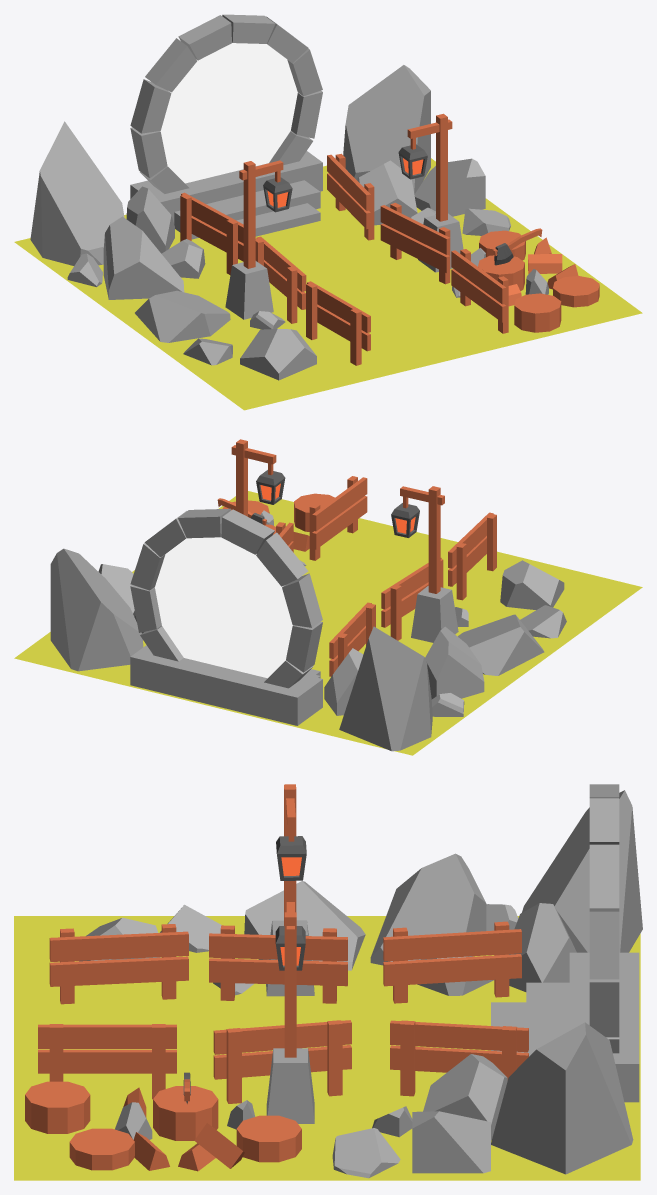
The model's file is portal.glb.
3 views of the same model, one above another, from view 1: azimuth 30°, elevation 25°; view 2: azimuth 150°, elevation 25°; view 3: azimuth 270°, elevation 25° (orthographic). The views are drawn at different scales.
Visible parts, largest first — view 1: Plane, Circle, Cube.021, Cube.020, Cube.022, Cube.027, Cube.016, Cube.046, Cube.004, Cube.026, Cube.002, Cube (+32 smaller); view 2: Plane, Circle, Cube.020, Cube.021, Cube.016, Cube.027, Cube.022, Cube, Cube.026, Cube.004, Cube.003, Cube.005 (+20 smaller); view 3: Plane, Cube.020, Cube.004, Cube.002, Cube.021, Cube, Cube.003, Cube.046, Cube.022, Cube.001, Cube.016, Cube.024 (+29 smaller).
Boxes of the visible parts, x1,y1,x2,y2 form: Plane: [14, 158, 642, 410]; Circle: [160, 43, 297, 183]; Cube.021: [30, 121, 124, 265]; Cube.020: [343, 65, 430, 194]; Cube.022: [103, 216, 184, 299]; Cube.027: [135, 290, 230, 342]; Cube.016: [130, 151, 322, 223]; Cube.046: [380, 202, 450, 284]; Cube.004: [306, 281, 370, 365]; Cube.026: [240, 329, 316, 380]; Cube.002: [180, 192, 243, 274]; Cube: [451, 249, 508, 333]; Plane: [14, 491, 642, 755]; Circle: [155, 537, 292, 678]; Cube.020: [50, 548, 143, 671]; Cube.021: [339, 626, 432, 751]; Cube.016: [130, 645, 322, 725]; Cube.027: [458, 614, 544, 675]; Cube.022: [425, 626, 484, 699]; Cube: [309, 476, 367, 560]; Cube.026: [500, 560, 564, 609]; Cube.004: [448, 512, 496, 600]; Cube.003: [381, 557, 443, 640]; Cube.005: [411, 586, 458, 642]; Plane: [14, 916, 640, 1180]; Cube.020: [491, 1022, 633, 1174]; Cube.004: [49, 924, 188, 1004]; Cube.002: [383, 921, 521, 1003]; Cube.021: [522, 790, 642, 952]; Cube: [38, 1024, 176, 1099]; Cube.003: [209, 925, 347, 1003]; Cube.046: [213, 1020, 351, 1103]; Cube.022: [370, 853, 486, 965]; Cube.001: [390, 1020, 528, 1096]; Cube.016: [569, 952, 639, 1102]; Cube.024: [412, 1111, 490, 1173].
Bounding box in the file's own units: 4 × 1.77 × 4.01.
